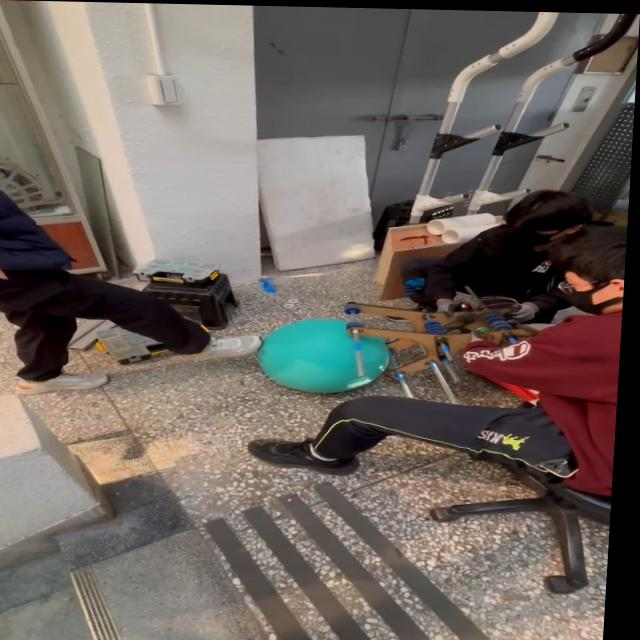ALGAE: (253, 316, 394, 395)
